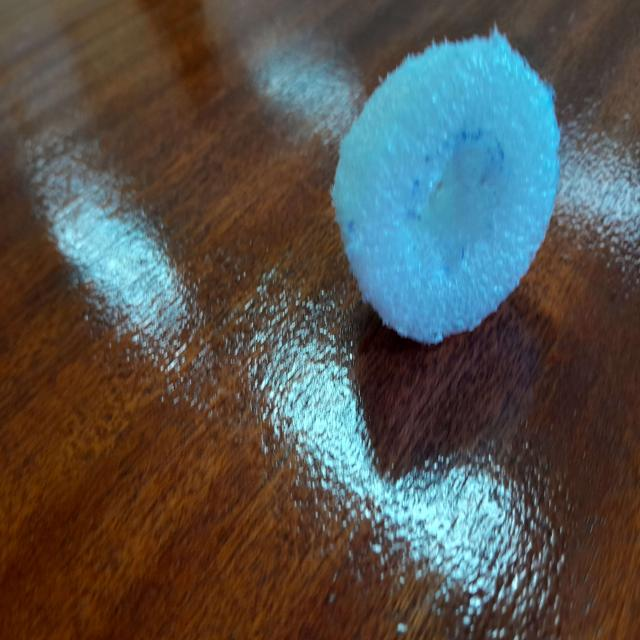wheel: (324, 35, 558, 352)
